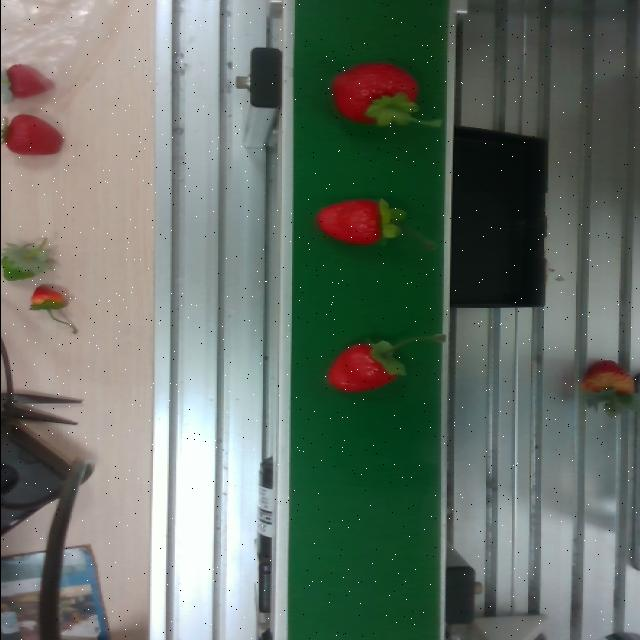Large Ripe Strawberry: (320, 54, 430, 136)
Small Ripe Strawberry: (318, 185, 409, 247), (320, 338, 408, 394)
conveyor: (281, 0, 459, 640)
